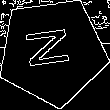N_E: (25, 29, 80, 75)
